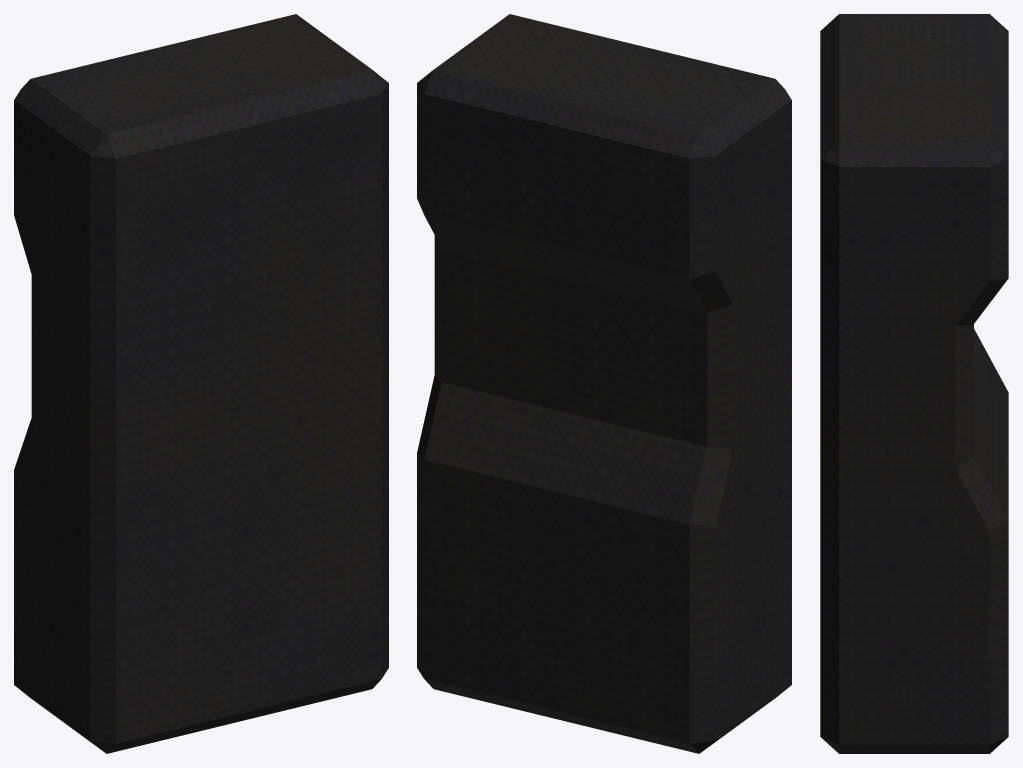
File: TVRemote.fbx
3 renders of one model, left to right at view 1: azimuth 30°, elevation 25°; view 2: azimuth 150°, elevation 25°; view 3: azimuth 270°, elevation 25°, orthographic.
Visible parts, largest first — view 1: TVRemote; view 2: TVRemote; view 3: TVRemote.
Boxes of the visible parts, x1,y1,x2,y2 form: TVRemote: [14, 14, 388, 753]; TVRemote: [417, 14, 791, 753]; TVRemote: [820, 14, 1008, 753].
Size of the model in its own units: 0.0906 by 0.1796 by 0.05.
Materials: 1 (1 with a texture image).
